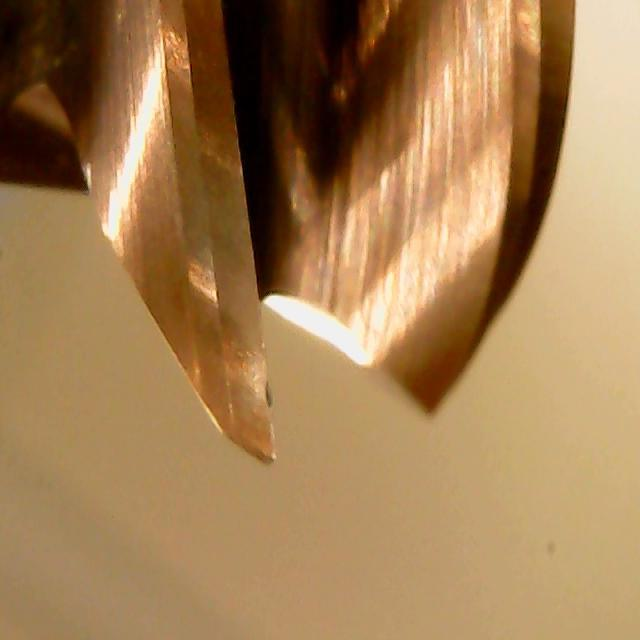Tool-wear-class-0: (189, 213, 298, 471)
